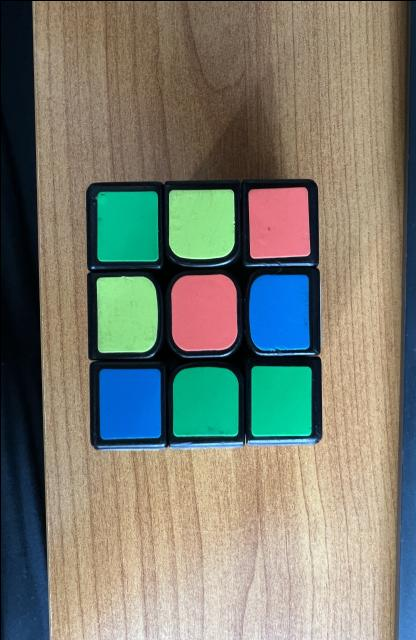Blue: (248, 274, 309, 350), (99, 368, 160, 439)
Green: (172, 366, 237, 436), (96, 190, 157, 261), (250, 365, 311, 435)
Orange: (170, 274, 236, 350), (247, 186, 310, 258)
Yellow: (95, 275, 157, 351), (168, 189, 234, 259)
